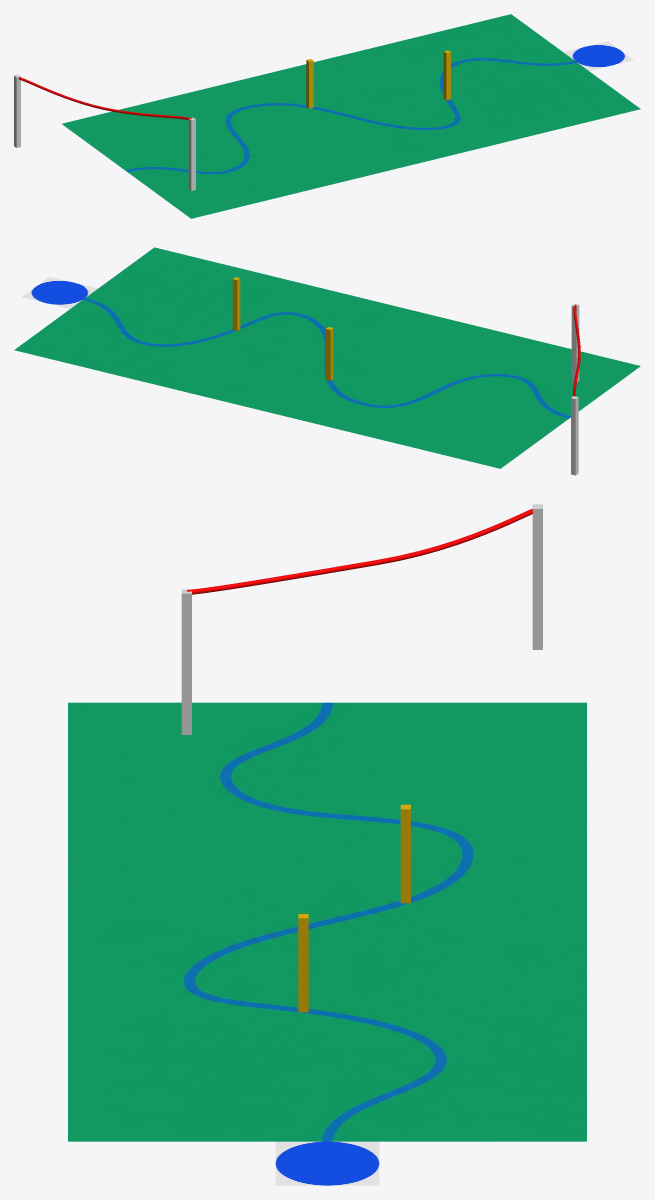
File: World_Hook.glb
3 views of the same model, one above another, from view 1: azimuth 30°, elevation 25°; view 2: azimuth 150°, elevation 25°; view 3: azimuth 270°, elevation 25° (orthographic). The views are drawn at different scales.
Parts seen in each view (by area): view 1: Plane, Plane.001, Cube.001, BézierCurve, Cube, Cube.002, Cube.003; view 2: Plane, Plane.001, Cube, Cube.001, Cube.002, Cube.003; view 3: Plane, Plane.001, BézierCurve, Cube, Cube.001, Cube.003, Cube.002.
Part boxes in pixels (x1,y1,x2,y2): Plane: [62, 14, 640, 218]; Plane.001: [563, 41, 633, 70]; Cube.001: [188, 117, 195, 190]; BézierCurve: [18, 77, 191, 119]; Cube: [14, 74, 20, 147]; Cube.002: [443, 50, 450, 100]; Cube.003: [306, 59, 313, 108]; Plane: [14, 247, 640, 468]; Plane.001: [22, 276, 97, 308]; Cube: [571, 396, 578, 475]; Cube.001: [571, 303, 579, 382]; Cube.002: [232, 277, 240, 331]; Cube.003: [325, 327, 333, 380]; Plane: [68, 702, 586, 1141]; Plane.001: [275, 1141, 379, 1185]; BézierCurve: [187, 508, 532, 594]; Cube: [532, 504, 542, 649]; Cube.001: [181, 589, 191, 734]; Cube.003: [400, 804, 410, 903]; Cube.002: [298, 914, 308, 1012].
Size of the model in its own units: 24.6 by 3.02 by 10.
5 materials, 2 textured.
